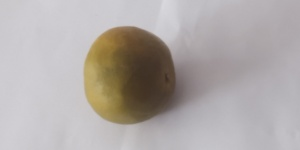BAD: (83, 23, 178, 126)
